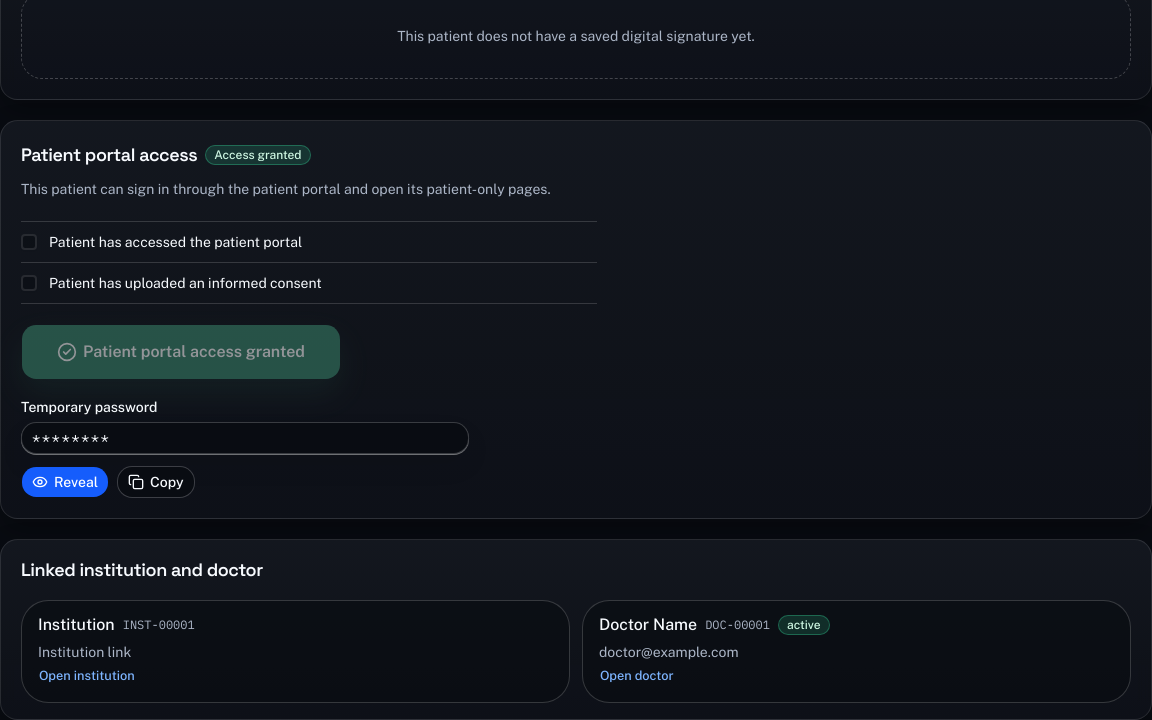
Test case: PatientWorkbench portal credentials › reveals an existing temporary password only after the scoped request
(page scrolled)
Check: the field labelled "Temporary password" holds "********", box [21,422,469,454]
Click the button "Reveal". click: x=65, y=482
box: [21,466,109,498]
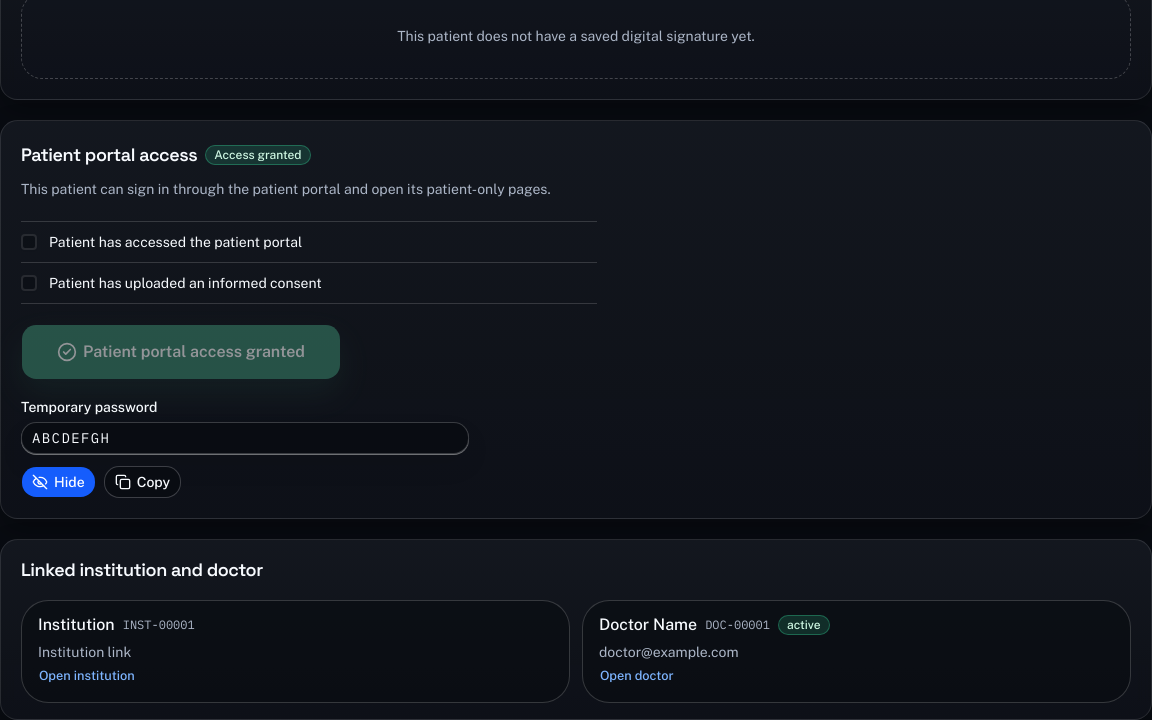
Check: the field labelled "Temporary password" holds "ABCDEFGH", box [21,422,469,454]
Check: the button "Hide" is shown, box [21,466,96,498]
